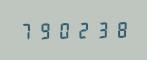eight: (108, 19, 125, 39)
nine: (35, 20, 52, 40)
seven: (17, 20, 34, 40)
three: (90, 19, 107, 39)
two: (72, 20, 89, 39)
zero: (54, 20, 71, 40)
